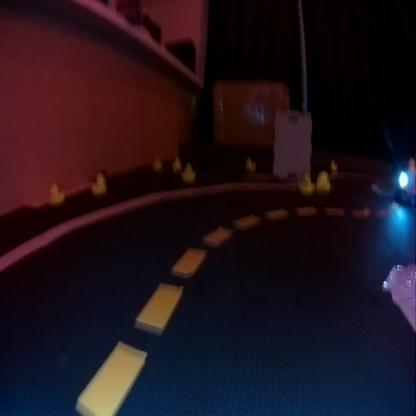Duckie: (297, 172, 313, 194), (91, 172, 104, 193), (181, 162, 195, 180), (49, 183, 62, 201), (316, 172, 329, 190), (246, 157, 255, 169)
